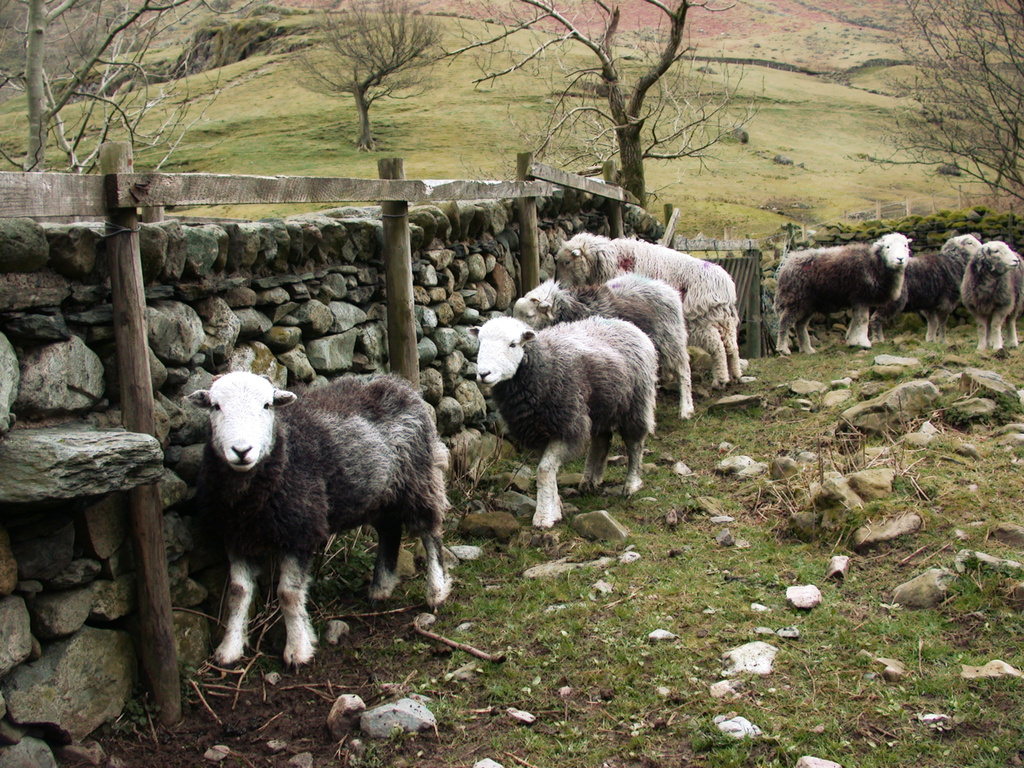sheep: (167, 364, 448, 684)
